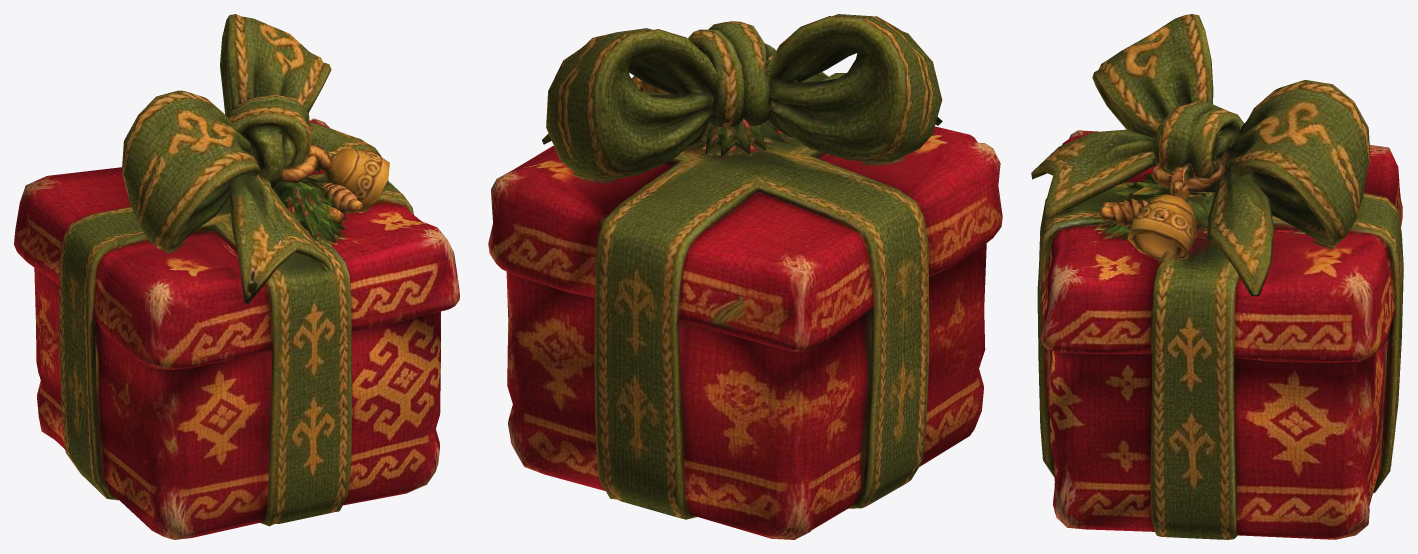
The model's file is n_hediye.glb.
3 views of the same model, side by side, from view 1: azimuth 30°, elevation 25°; view 2: azimuth 150°, elevation 25°; view 3: azimuth 270°, elevation 25° (orthographic). The views are drawn at different scales.
Visible parts, largest first — view 1: tripo_node_2799e2e3-d15d-4f60-bb06-fe7688792209; view 2: tripo_node_2799e2e3-d15d-4f60-bb06-fe7688792209; view 3: tripo_node_2799e2e3-d15d-4f60-bb06-fe7688792209.
Part boxes in pixels (left/top/right/bottom): tripo_node_2799e2e3-d15d-4f60-bb06-fe7688792209: left=14, top=14, right=459, bottom=539; tripo_node_2799e2e3-d15d-4f60-bb06-fe7688792209: left=488, top=14, right=1002, bottom=539; tripo_node_2799e2e3-d15d-4f60-bb06-fe7688792209: left=1031, top=14, right=1403, bottom=539.
Size of the model in its own units: 0.8398 by 0.9775 by 0.7938.
Materials: 1 (1 with a texture image).
